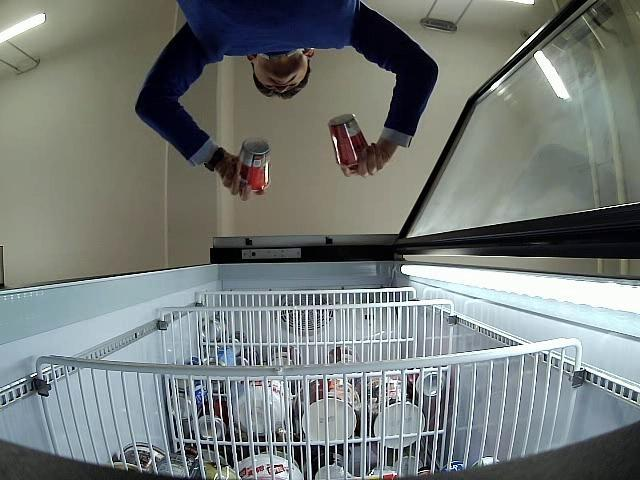02_shinRamen_S: (327, 114, 369, 167), (238, 136, 270, 191)
